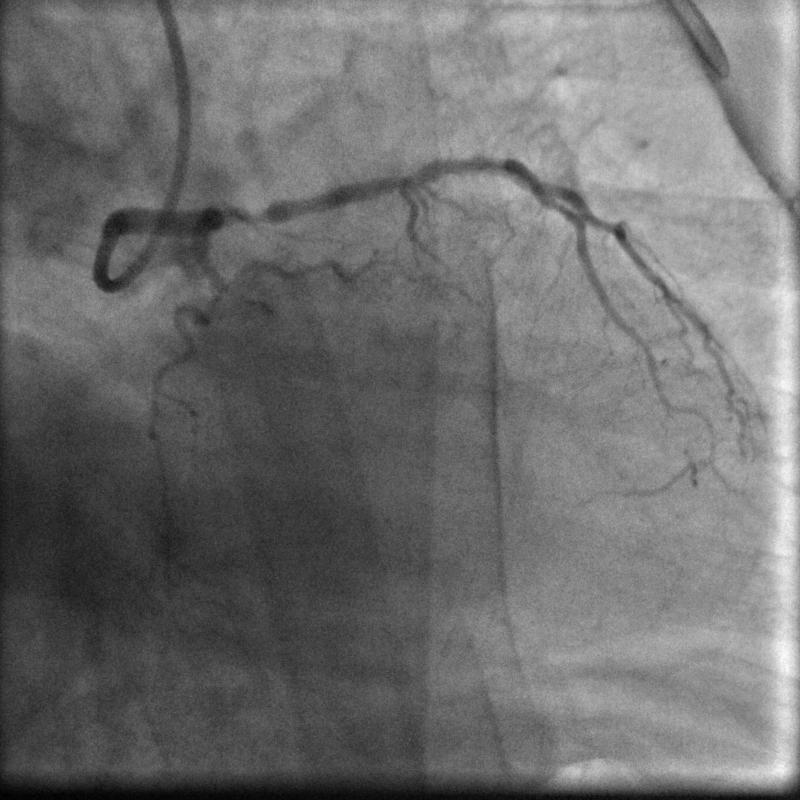Stenosis: (221, 198, 278, 226)
